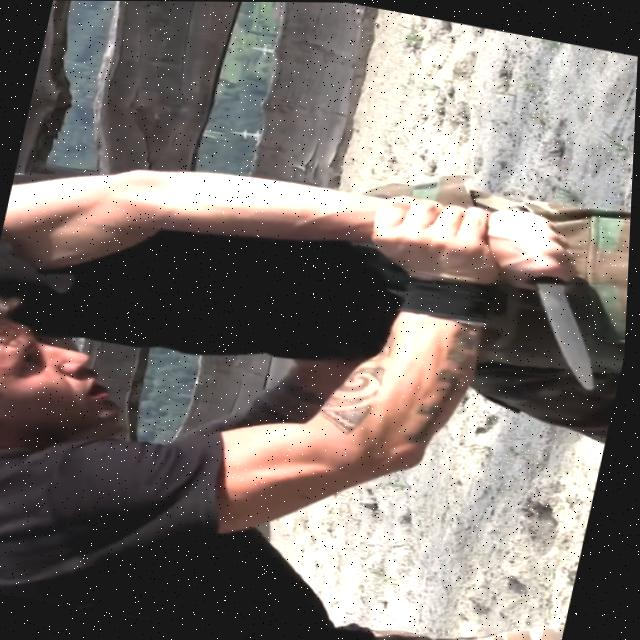knife: (506, 271, 617, 390)
